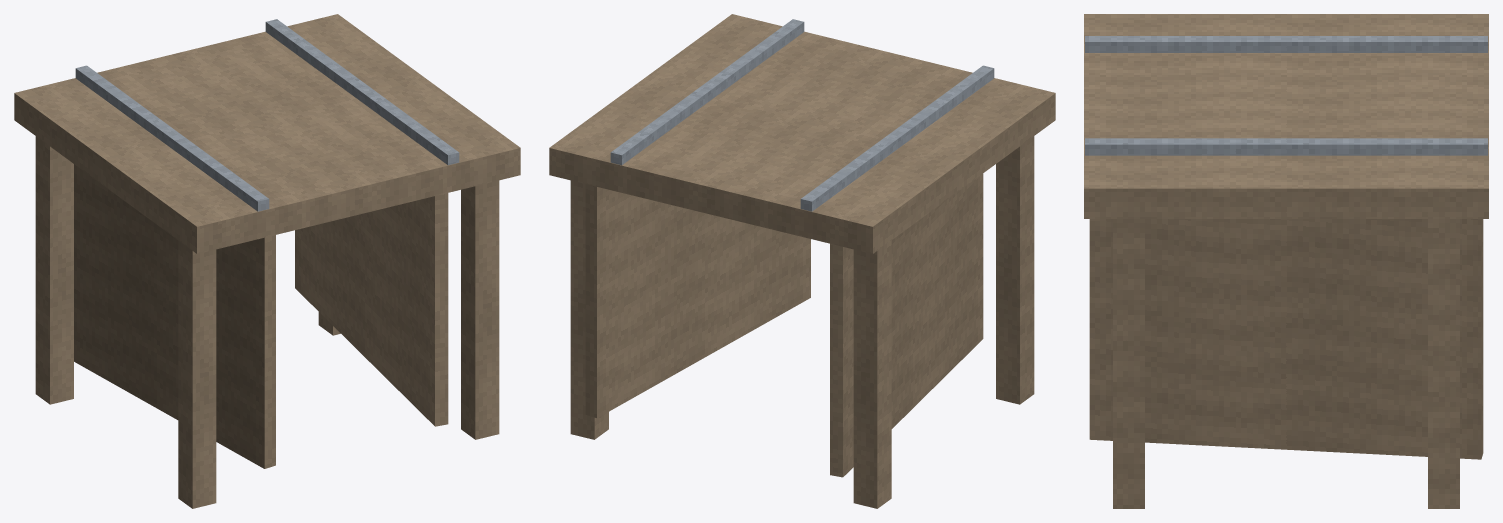
Rendered from level_blockout_rail_trestle_bay.glb.
3 views of the same model, side by side, from view 1: azimuth 30°, elevation 25°; view 2: azimuth 150°, elevation 25°; view 3: azimuth 270°, elevation 25° (orthographic). The views are drawn at different scales.
Visible parts, largest first — view 1: level_blockout_rail_trestle_bay; view 2: level_blockout_rail_trestle_bay; view 3: level_blockout_rail_trestle_bay.
Boxes of the visible parts, x1=… form: level_blockout_rail_trestle_bay: x1=14, y1=14, x2=520, y2=508; level_blockout_rail_trestle_bay: x1=549, y1=14, x2=1055, y2=508; level_blockout_rail_trestle_bay: x1=1084, y1=14, x2=1488, y2=508.
Size of the model in its own units: 2.86 by 2.56 by 2.8.
2 materials, 2 textured.
